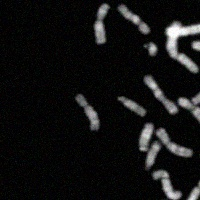chromosome: (166, 22, 197, 74), (144, 76, 177, 114), (157, 127, 193, 157), (118, 5, 149, 33), (76, 95, 100, 131), (152, 170, 181, 199), (179, 97, 200, 127), (164, 18, 200, 35), (117, 96, 145, 116), (95, 4, 109, 43), (144, 141, 160, 168), (139, 123, 152, 150), (185, 177, 200, 200), (144, 41, 156, 57), (191, 84, 200, 104), (193, 41, 200, 58)
